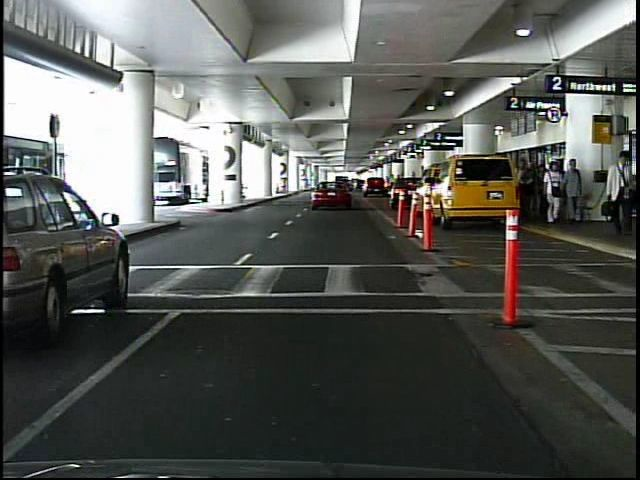person: (599, 149, 635, 240), (563, 158, 586, 224), (546, 159, 565, 226)
